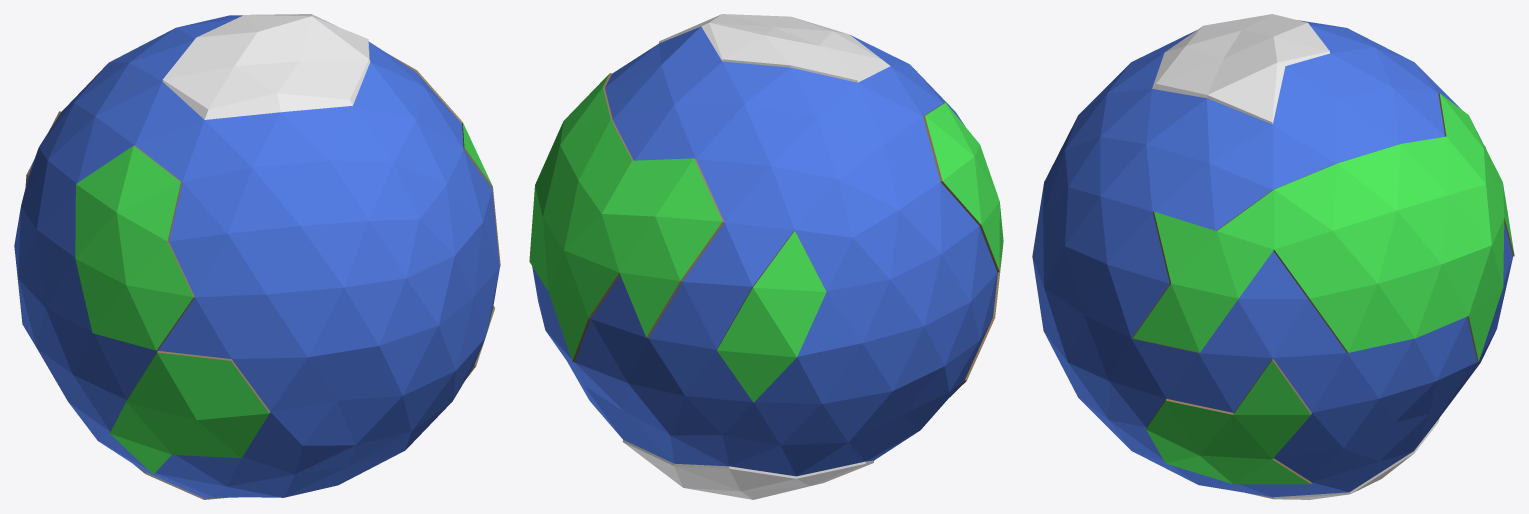
The model's file is Planet2.fbx.
The picture shows the model from 3 angles, left to right: view 1: azimuth 30°, elevation 25°; view 2: azimuth 150°, elevation 25°; view 3: azimuth 270°, elevation 25°; orthographic projection. The views are drawn at different scales.
Visible parts, largest first — view 1: Icosphere; view 2: Icosphere; view 3: Icosphere.
Boxes of the visible parts, x1,y1,x2,y2 form: Icosphere: (14,14,500,499); Icosphere: (529,14,1003,499); Icosphere: (1032,14,1514,499).
Size of the model in its own units: 201 by 208 by 201.
